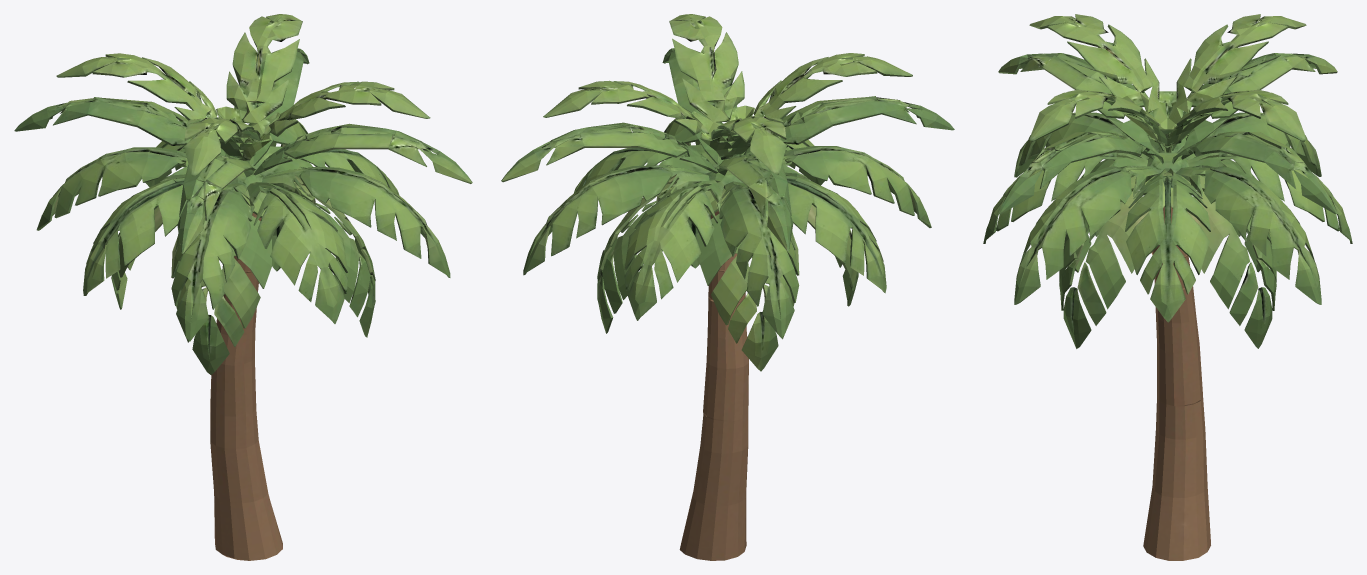
Rendered from tripo_convert_7170a0c5-5ccb-4ac5-b980-780f80c282bb.fbx.
3 renders of one model, left to right at view 1: azimuth 30°, elevation 25°; view 2: azimuth 150°, elevation 25°; view 3: azimuth 270°, elevation 25°, orthographic.
Parts seen in each view (by area): view 1: tripo_node_7170a0c5; view 2: tripo_node_7170a0c5; view 3: tripo_node_7170a0c5.
Part boxes in pixels (<box>): tripo_node_7170a0c5: <box>14,14,472,560</box>; tripo_node_7170a0c5: <box>501,14,954,560</box>; tripo_node_7170a0c5: <box>983,14,1352,560</box>.
Bounding box in the file's own units: 0.6321 × 0.906 × 0.6282.
Materials: 1 (1 with a texture image).
